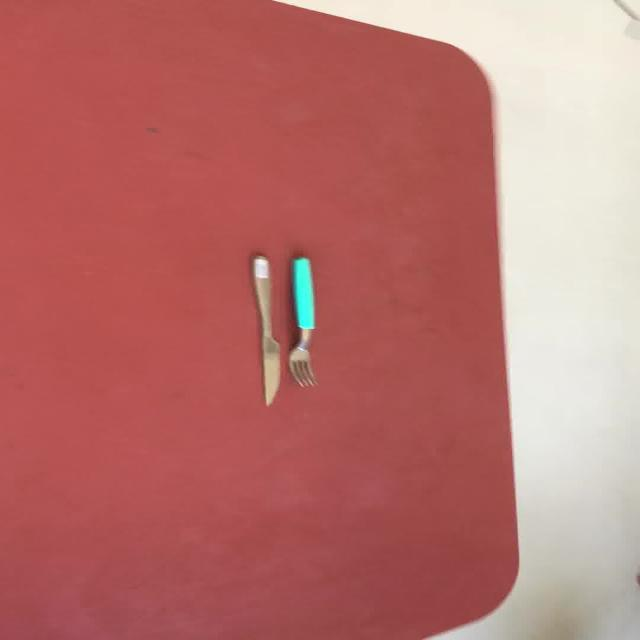fork: (250, 253, 280, 406), (286, 254, 316, 387)
knife fork: (250, 253, 280, 406)
